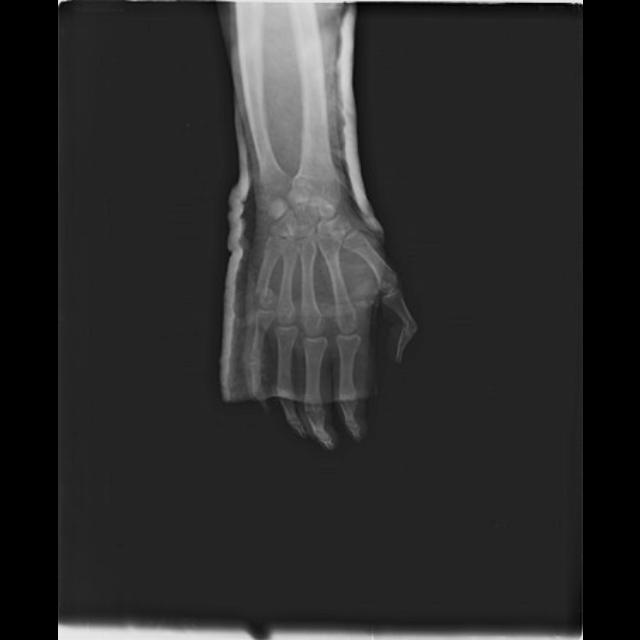Fracture: (250, 278, 279, 310)
